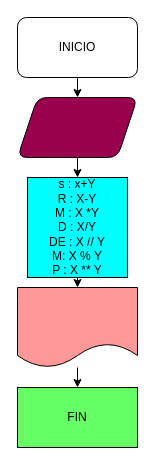
The diagram is 155 pixels wide and 465 high, and some of its shapes have lost their labels. The centre of each missing label's shape, as x and y in pixels:
"S,R, M, D, DE, M, P" belongs at point (77, 327).
"X,Y" belongs at point (77, 127).
